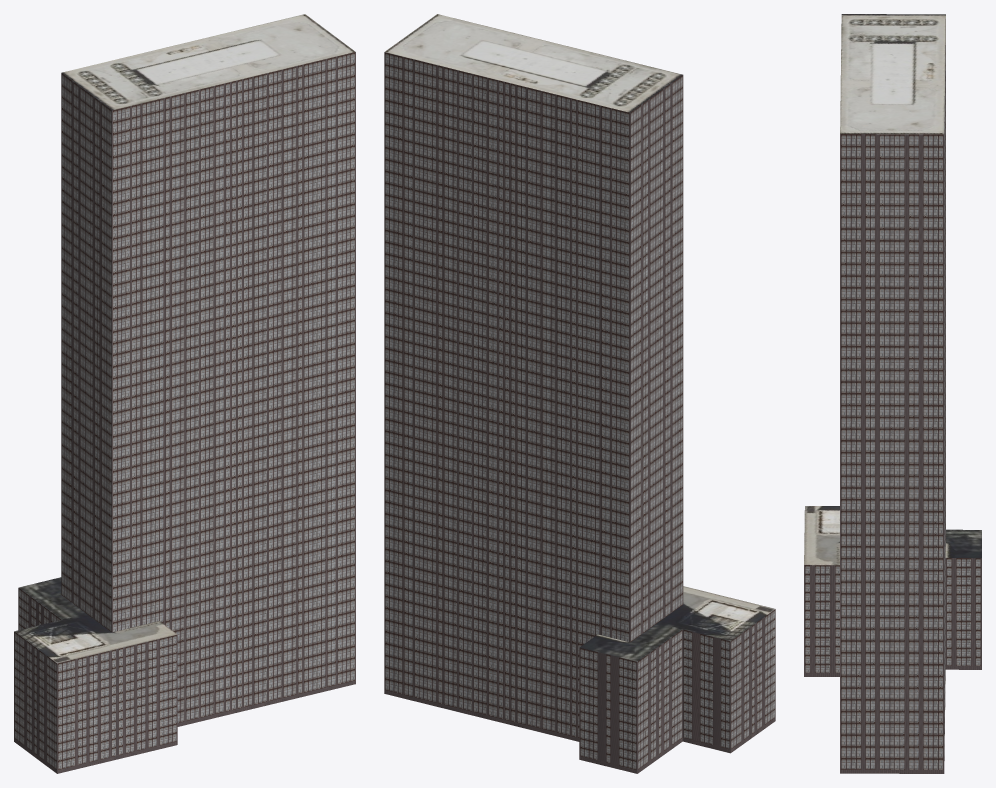
File: building13.fbx
3 views of the same model, side by side, from view 1: azimuth 30°, elevation 25°; view 2: azimuth 150°, elevation 25°; view 3: azimuth 270°, elevation 25° (orthographic).
Visible parts, largest first — view 1: geometryt040100010000000110110100110010000010010st63_Ex_d1b0, Object.393, geometryt040100010000000110110100110010000010010st64_Ex_ab07; view 2: geometryt040100010000000110110100110010000010010st63_Ex_d1b0, Object.393, geometryt040100010000000110110100110010000010010st64_Ex_ab07; view 3: geometryt040100010000000110110100110010000010010st63_Ex_d1b0, Object.393, geometryt040100010000000110110100110010000010010st64_Ex_ab07.
Part boxes in pixels (x1=…): geometryt040100010000000110110100110010000010010st63_Ex_d1b0: x1=14, y1=52, x2=354, y2=769; Object.393: x1=14, y1=52, x2=355, y2=773; geometryt040100010000000110110100110010000010010st64_Ex_ab07: x1=14, y1=14, x2=355, y2=663; geometryt040100010000000110110100110010000010010st63_Ex_d1b0: x1=385, y1=52, x2=775, y2=769; Object.393: x1=384, y1=52, x2=775, y2=773; geometryt040100010000000110110100110010000010010st64_Ex_ab07: x1=385, y1=14, x2=774, y2=661; geometryt040100010000000110110100110010000010010st63_Ex_d1b0: x1=805, y1=45, x2=980, y2=769; Object.393: x1=804, y1=19, x2=981, y2=773; geometryt040100010000000110110100110010000010010st64_Ex_ab07: x1=804, y1=14, x2=981, y2=735.
Bounding box in the file's own units: 12011 × 22900 × 5775.
Materials: 3 (3 with a texture image).
